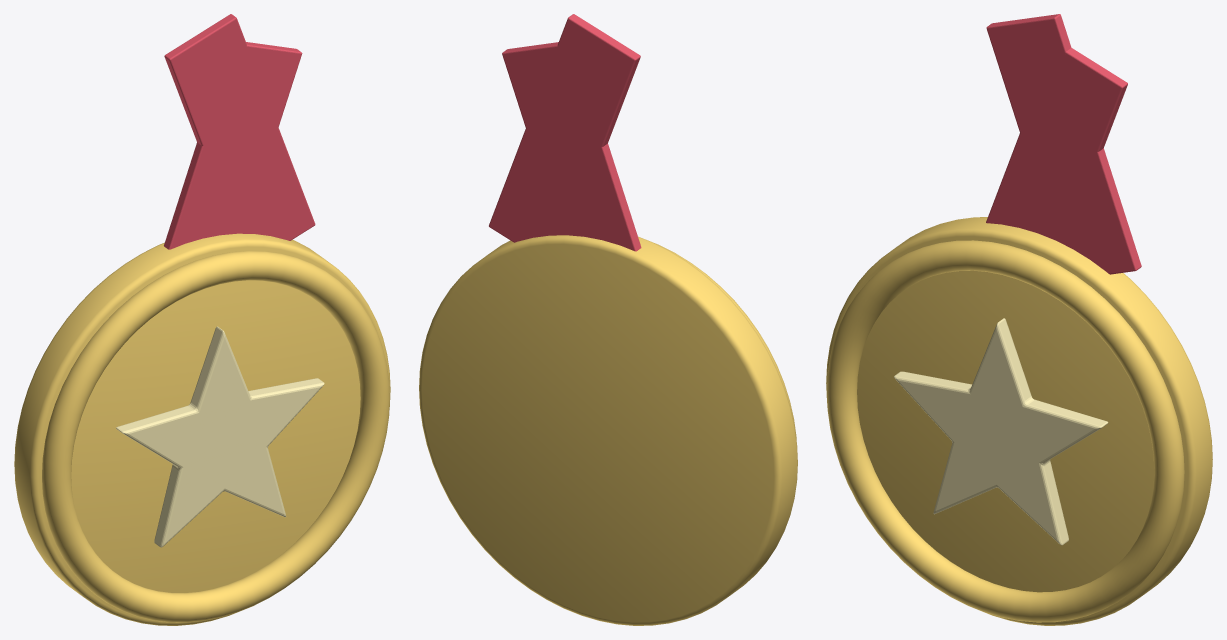
Rendered from cat-title.glb.
The picture shows the model from 3 angles, left to right: view 1: azimuth 30°, elevation 25°; view 2: azimuth 150°, elevation 25°; view 3: azimuth 330°, elevation 25°; orthographic projection. The views are drawn at different scales.
Parts seen in each view (by area): view 1: Cylinder, Torus, poly, poly.001, poly.002; view 2: Cylinder, poly.001, poly.002, Torus; view 3: Cylinder, Torus, poly, poly.002, poly.001.
Boxes of the visible parts, x1,y1,x2,y2 form: Cylinder: [14, 233, 390, 625]; Torus: [42, 251, 389, 622]; poly: [116, 326, 324, 547]; poly.001: [164, 42, 302, 249]; poly.002: [164, 14, 315, 240]; Cylinder: [419, 235, 797, 625]; poly.001: [502, 42, 641, 251]; poly.002: [489, 14, 640, 242]; Torus: [654, 243, 796, 439]; Cylinder: [826, 217, 1212, 625]; Torus: [826, 240, 1184, 622]; poly: [894, 318, 1108, 545]; poly.002: [986, 14, 1141, 274]; poly.001: [986, 46, 1127, 243].
Bounding box in the file's own units: 1.13 × 1.76 × 0.177.
